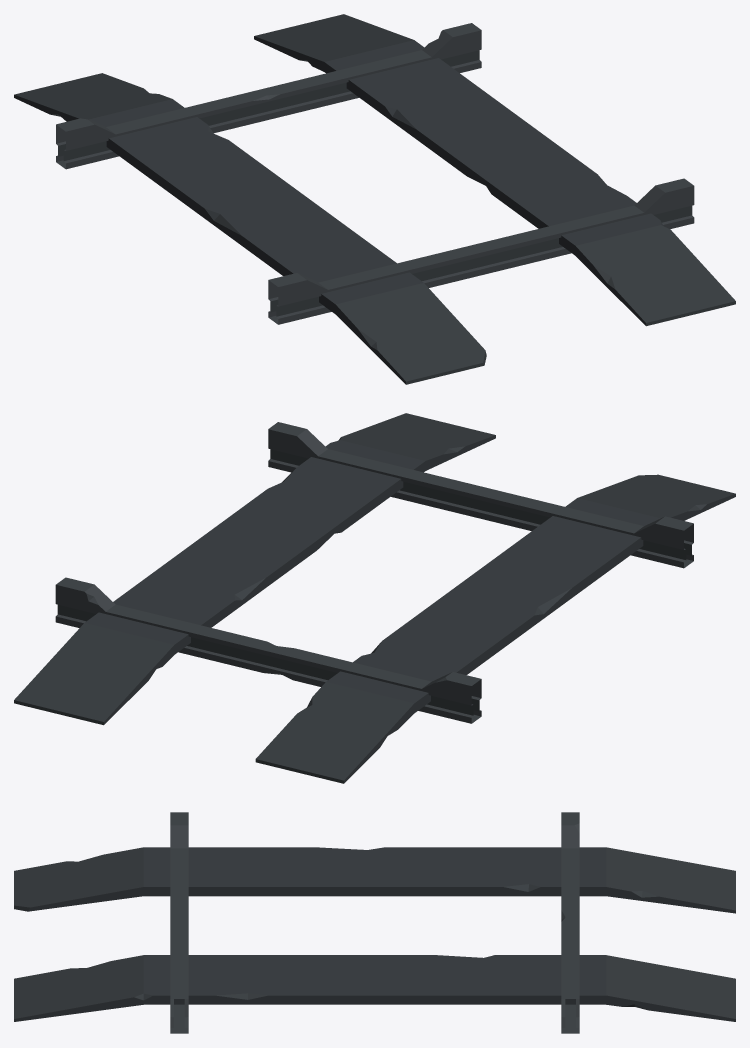
The model's file is SM_Prop_MechanicLift_Platform.fbx.
3 renders of one model, top to bottom at view 1: azimuth 30°, elevation 25°; view 2: azimuth 150°, elevation 25°; view 3: azimuth 270°, elevation 25°, orthographic. The views are drawn at different scales.
Visible parts, largest first — view 1: SM_Prop_MechanicLift_Platform; view 2: SM_Prop_MechanicLift_Platform; view 3: SM_Prop_MechanicLift_Platform.
Boxes of the visible parts, <box> form: SM_Prop_MechanicLift_Platform: <box>14,14,735,384</box>; SM_Prop_MechanicLift_Platform: <box>14,413,735,783</box>; SM_Prop_MechanicLift_Platform: <box>14,812,735,1033</box>.
Size of the model in its own units: 285 by 30.19 by 466.
